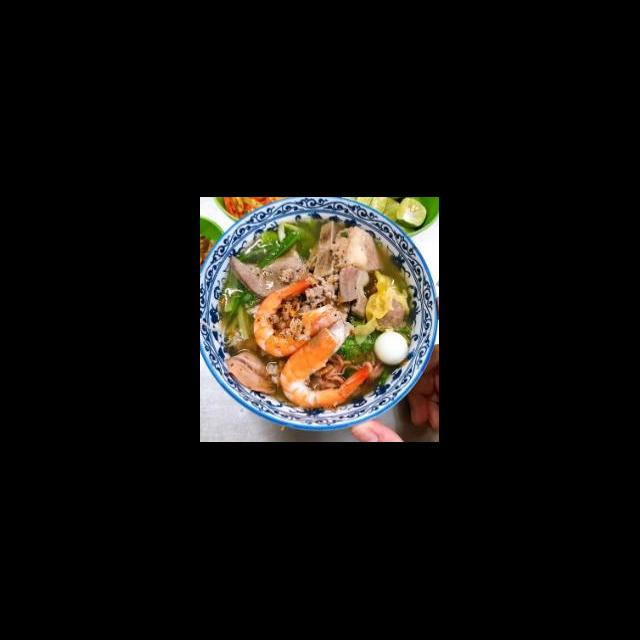gan: (227, 248, 316, 300)
thit bam: (300, 270, 344, 312)
tom: (276, 316, 376, 412), (250, 274, 352, 362)
trung: (372, 326, 412, 368)
